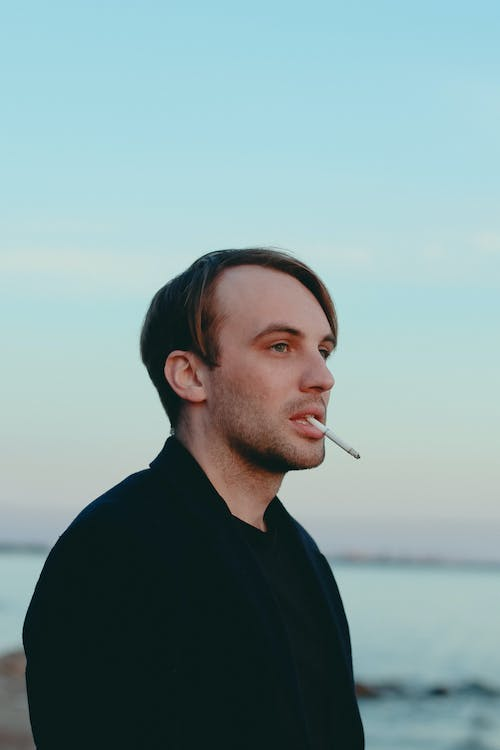cigarette: (304, 412, 362, 464)
